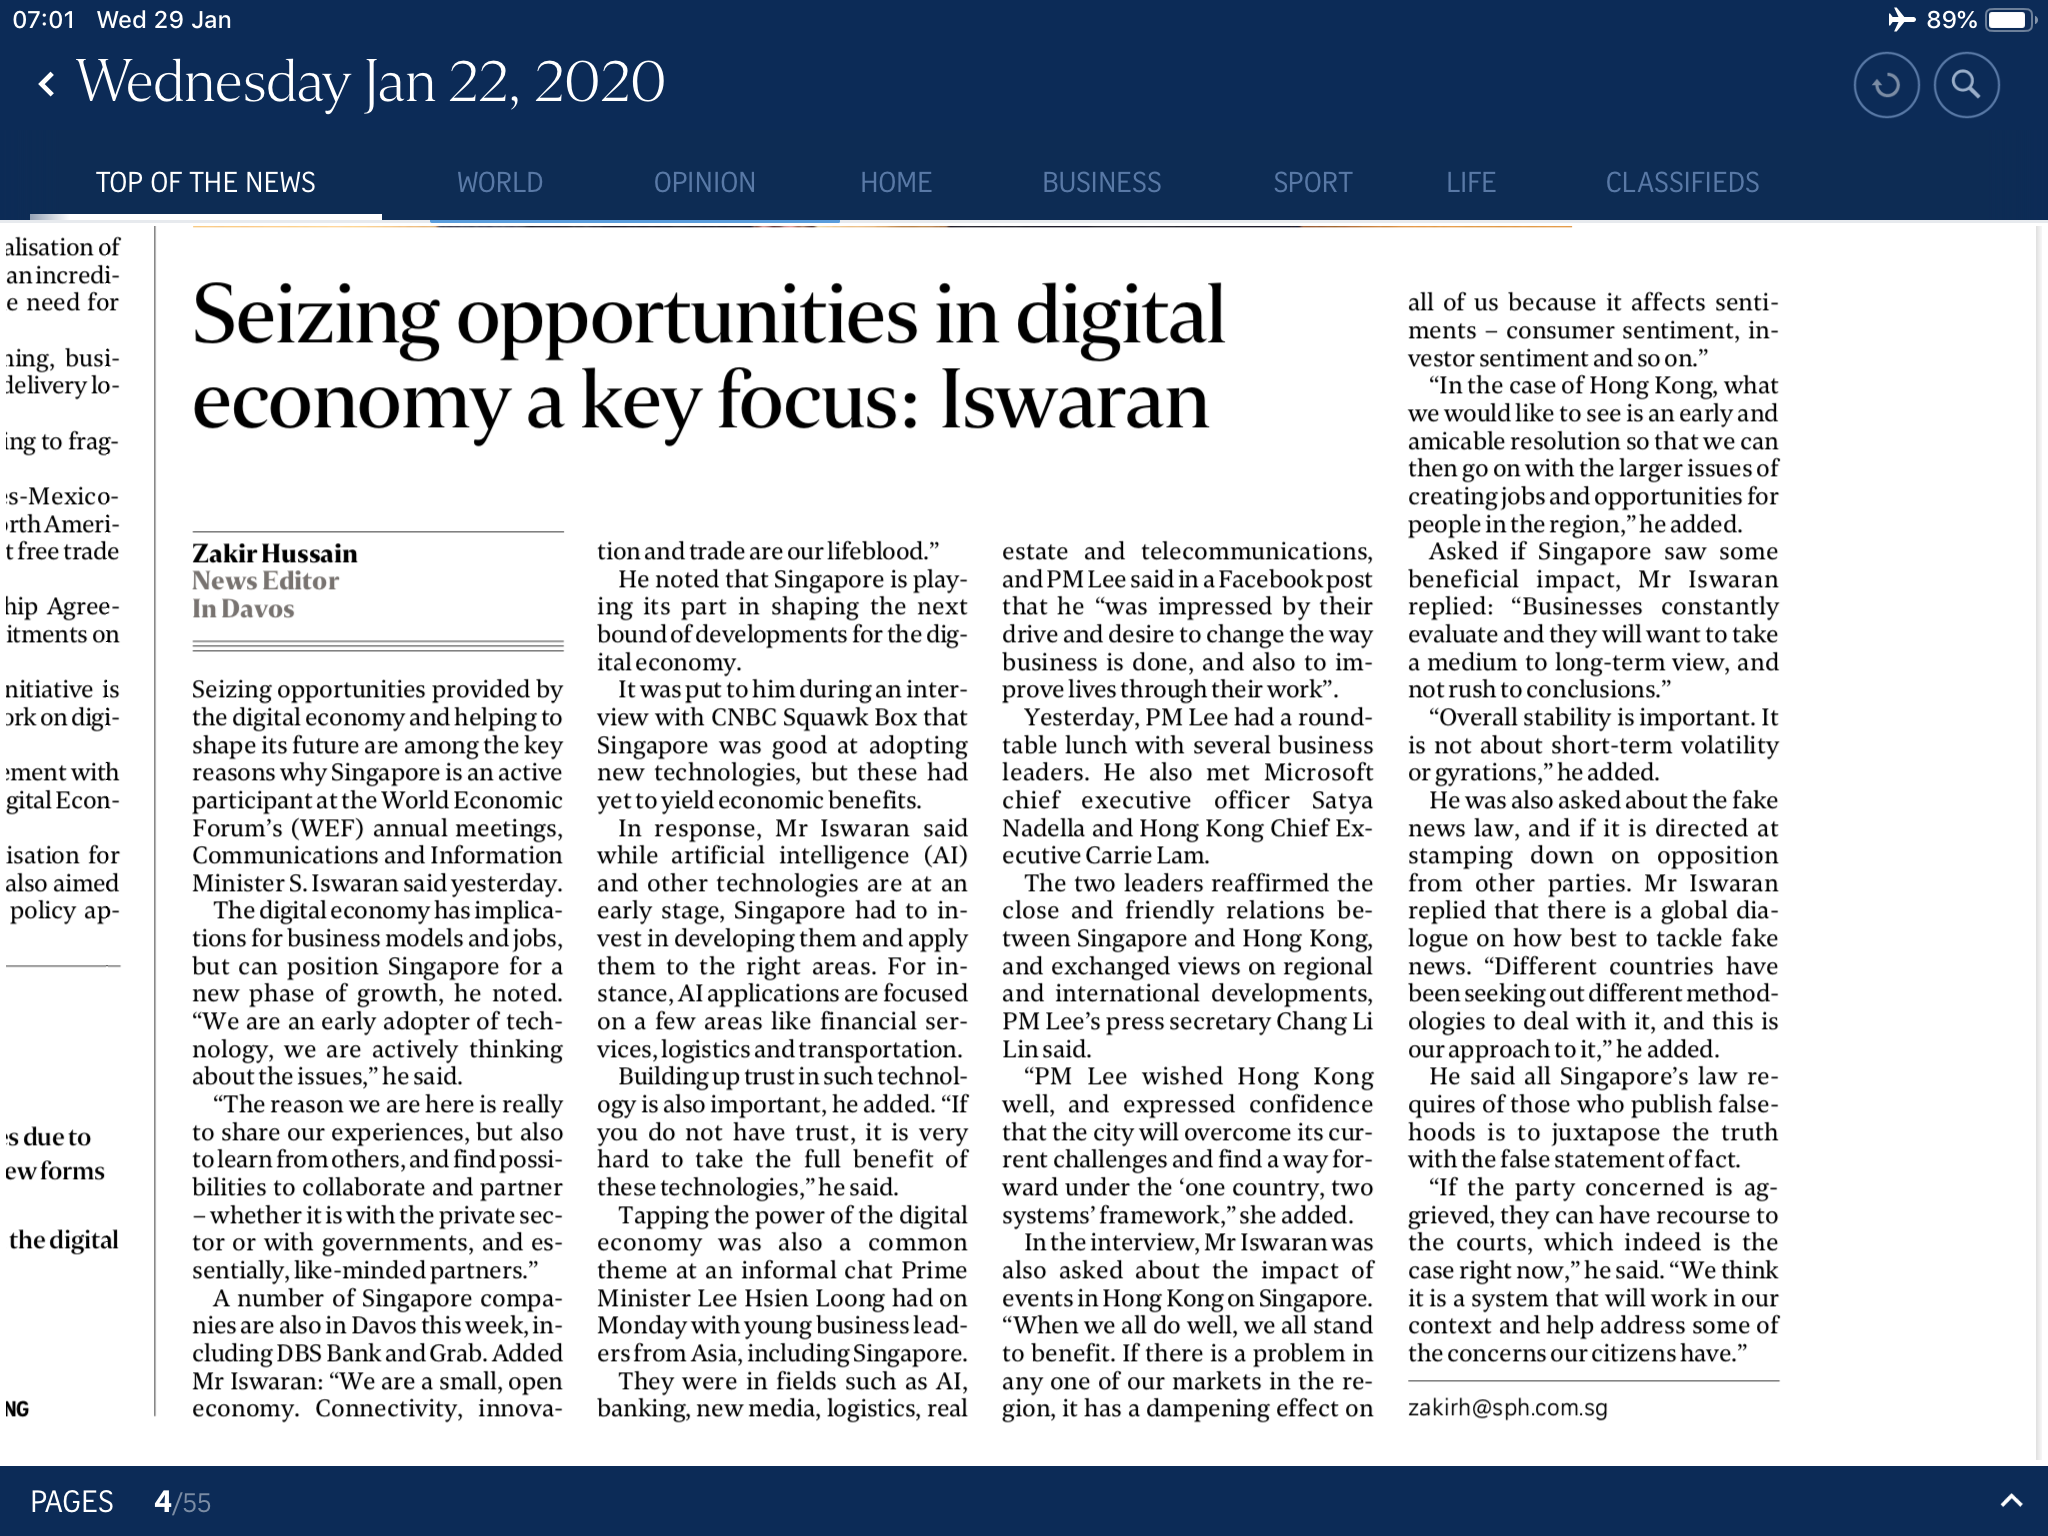Byline: (190, 539, 363, 618)
Headline: (190, 273, 1230, 453)
Text: (1408, 287, 1782, 1367), (592, 532, 971, 1426), (1000, 537, 1380, 1426), (185, 674, 564, 1425), (3, 232, 123, 921)
